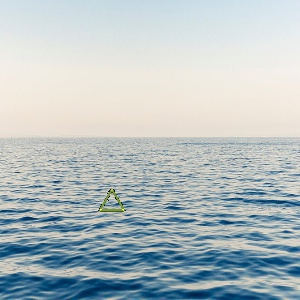triangle: (96, 185, 127, 213)
